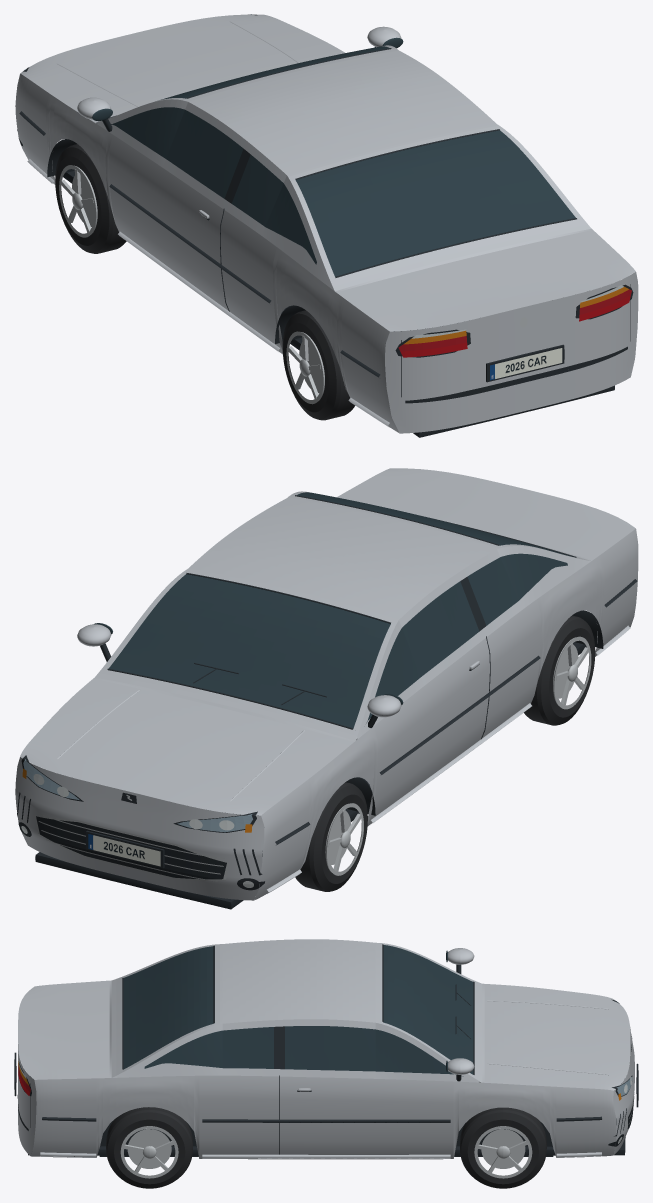
The model's file is Entrega_7_LOD0.glb.
3 renders of one model, top to bottom at view 1: azimuth 30°, elevation 25°; view 2: azimuth 150°, elevation 25°; view 3: azimuth 270°, elevation 25°, orthographic. The views are drawn at different scales.
Parts seen in each view (by area): view 1: Body, Glass, Wheel_RL, Wheel_FL, Plates, BrakeLights, TailLights; view 2: Body, Glass, Wheel_FL, Wheel_RL, Headlights, Plates; view 3: Body, Glass, Wheel_RR, Wheel_FR.
Boxes of the visible parts, bbox=[...] form: Body: bbox=[15, 14, 638, 437]; Glass: bbox=[92, 37, 575, 277]; Wheel_RL: bbox=[282, 310, 355, 420]; Wheel_FL: bbox=[55, 144, 126, 253]; Plates: bbox=[490, 348, 562, 380]; BrakeLights: bbox=[398, 289, 631, 351]; TailLights: bbox=[400, 295, 630, 357]; Body: bbox=[15, 468, 638, 909]; Glass: bbox=[94, 492, 572, 728]; Wheel_FL: bbox=[295, 782, 367, 891]; Wheel_RL: bbox=[524, 615, 595, 725]; Headlights: bbox=[21, 759, 253, 887]; Plates: bbox=[88, 834, 160, 866]; Body: bbox=[14, 939, 638, 1159]; Glass: bbox=[123, 945, 473, 1076]; Wheel_RR: bbox=[106, 1107, 192, 1188]; Wheel_FR: bbox=[460, 1107, 546, 1188].
Size of the model in its own units: 2.21 by 1.4 by 4.82.
14 materials, 1 textured.
